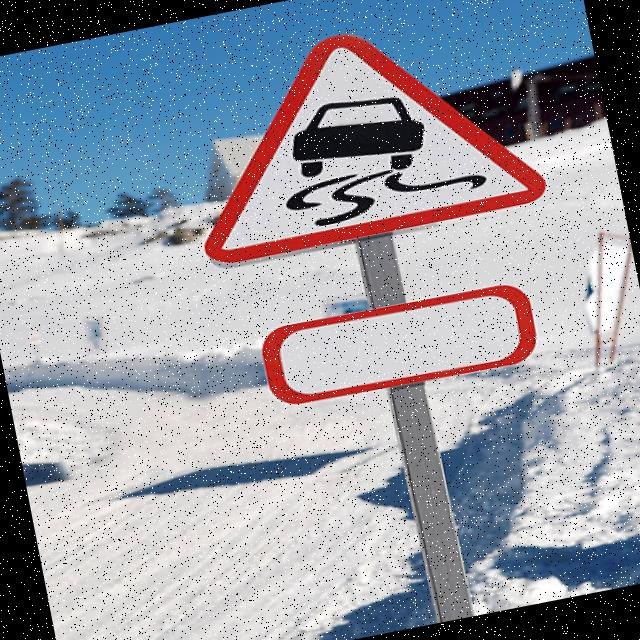road_slippery: (162, 0, 555, 277)
